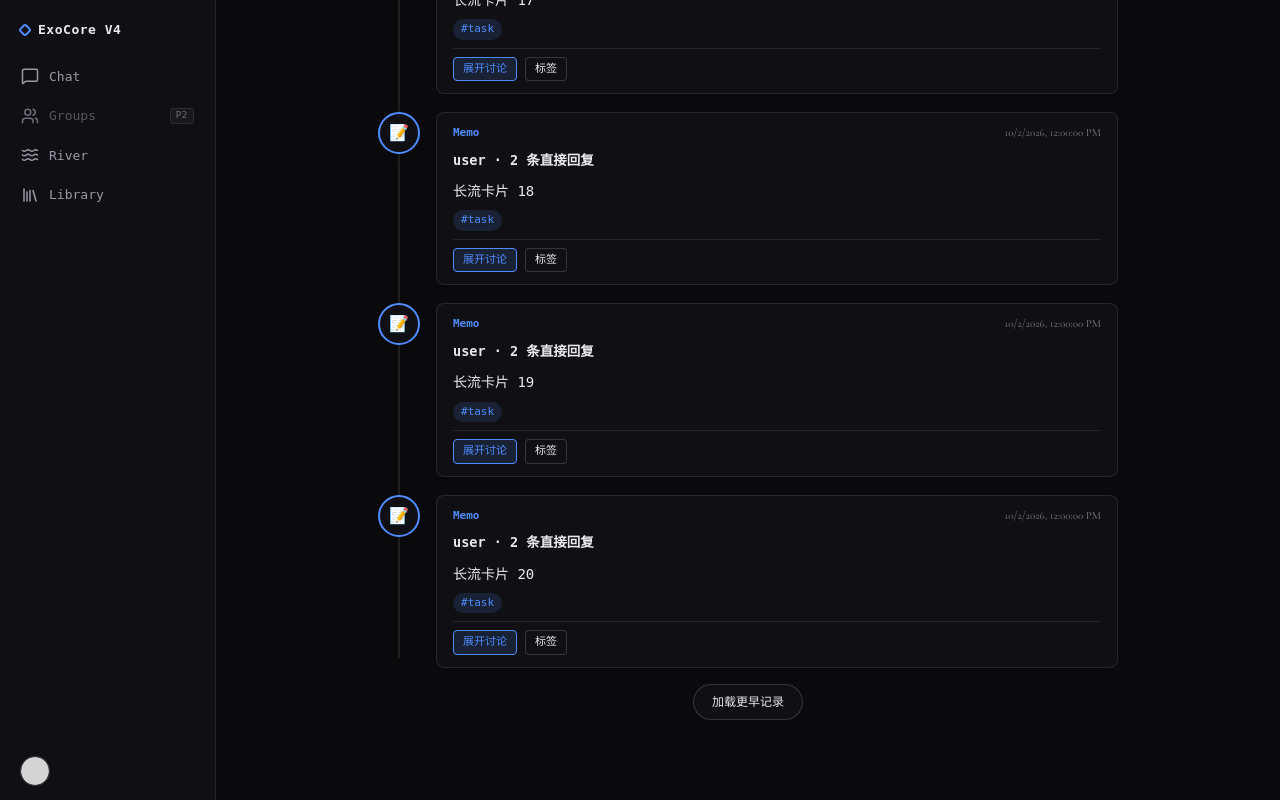
it: CP1-F01 real shell scroll contract (structure, not jsdom layout) › keeps a long stream, its last card and pagination inside the same scroller; drawer preserves its deep position
(page scrolled)
Click the button "加载更早记录": (748, 702) [693,684,803,720]
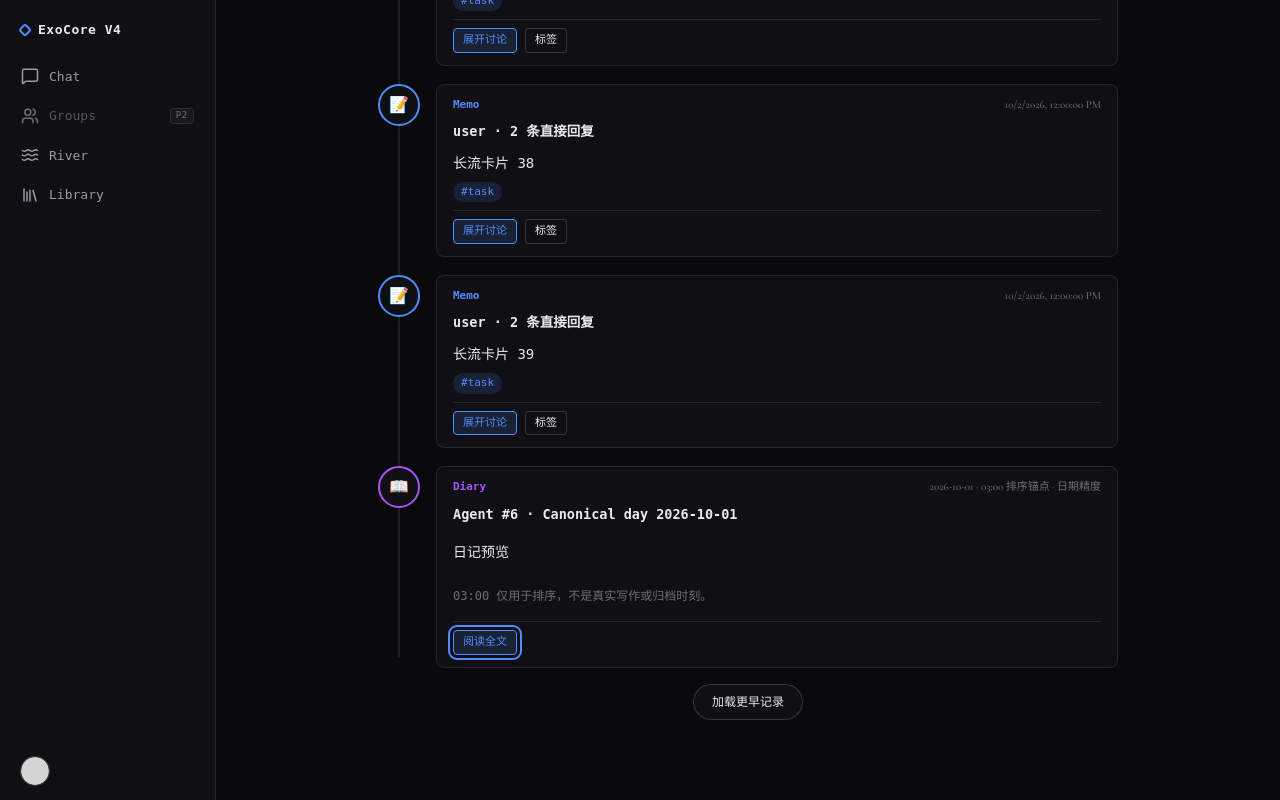
Expected: the text "长流卡片 39" is shown, [453,346,534,362]
Click the button "阅读全文": (485, 642) [453,630,517,655]
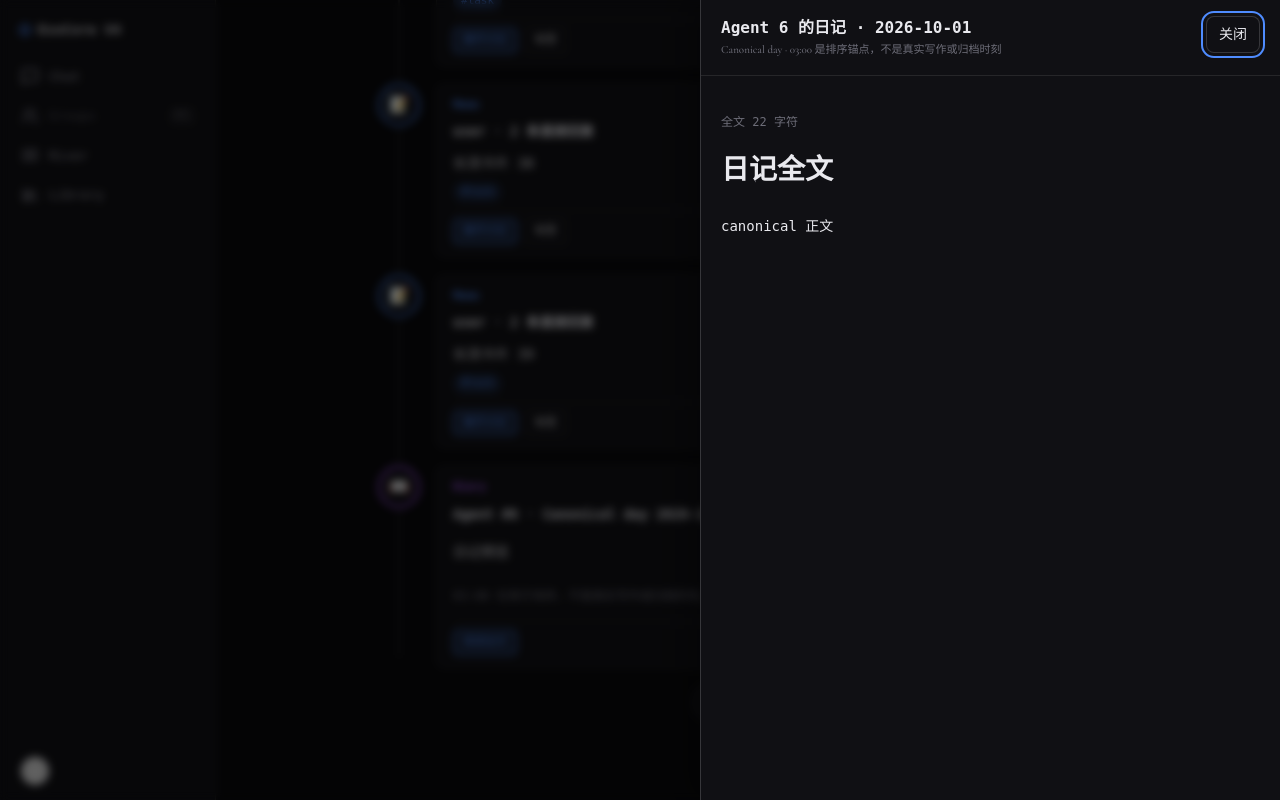
Expected: the heading "日记全文" is shown, [721,153,833,186]
Press Escape
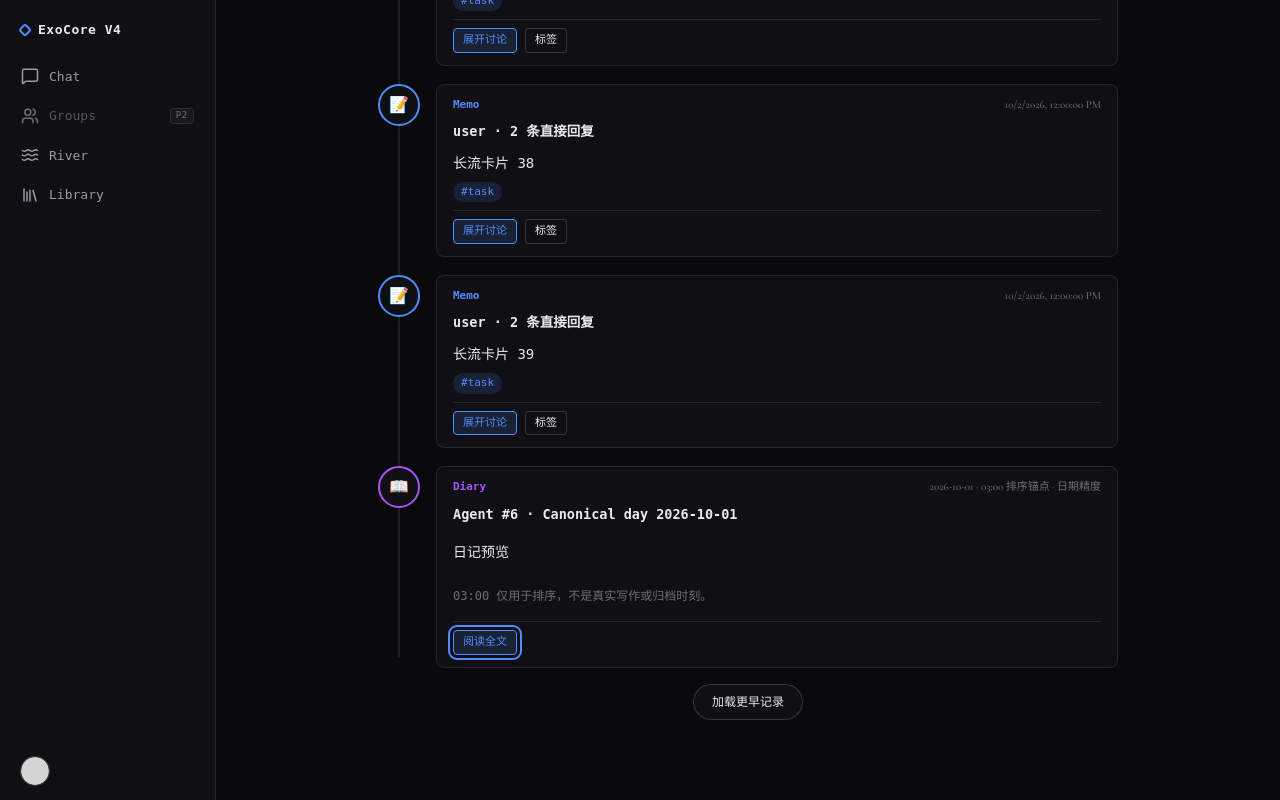
Expected: the dialog is gone
